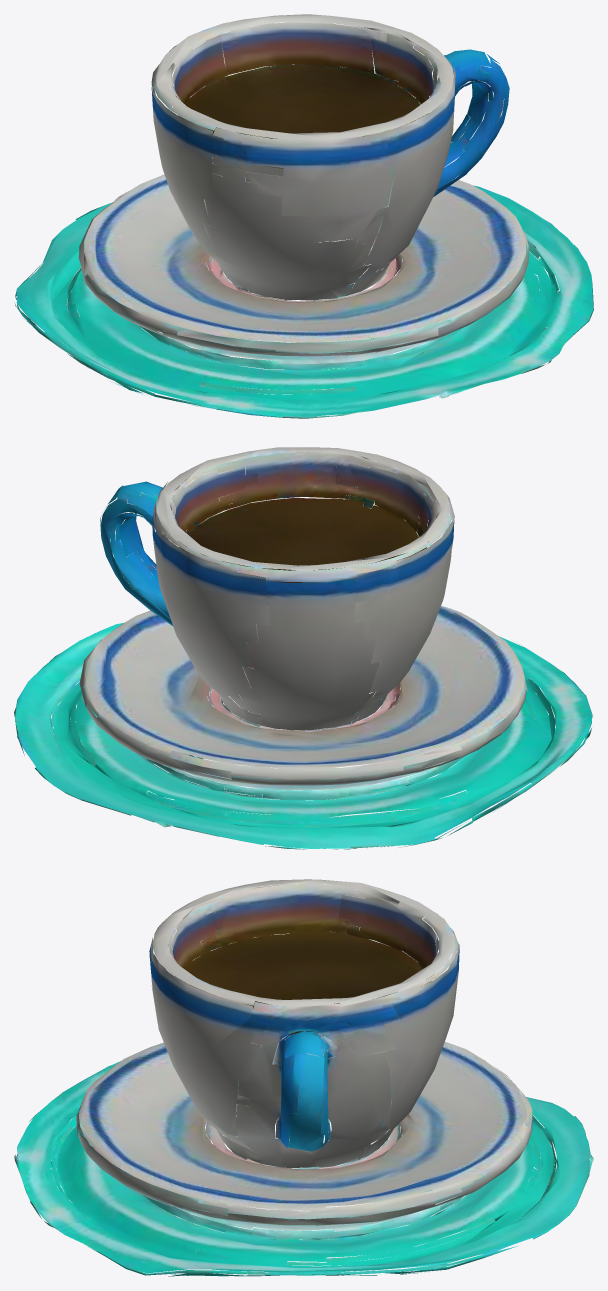
Rendered from coffee-coin.glb.
The picture shows the model from 3 angles, top to bottom: view 1: azimuth 30°, elevation 25°; view 2: azimuth 150°, elevation 25°; view 3: azimuth 270°, elevation 25°; orthographic projection.
Visible parts, largest first — view 1: CN_coffee-coin; view 2: CN_coffee-coin; view 3: CN_coffee-coin.
Boxes of the visible parts, bbox=[...] form: CN_coffee-coin: bbox=[14, 14, 593, 418]; CN_coffee-coin: bbox=[14, 447, 592, 849]; CN_coffee-coin: bbox=[14, 879, 593, 1276].
Bounding box in the file's own units: 1 × 0.4572 × 1.
Materials: 1 (1 with a texture image).
